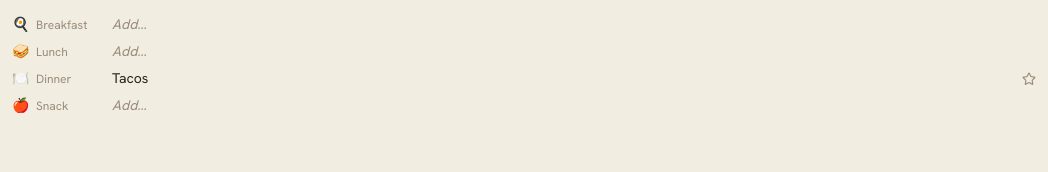
Scenario: MealDayEditor › cancels on Escape without saving
Click the button with aria-label "Edit Dinner for Mon 8/17" at (130, 78), box left=108, top=66, right=1018, bottom=91
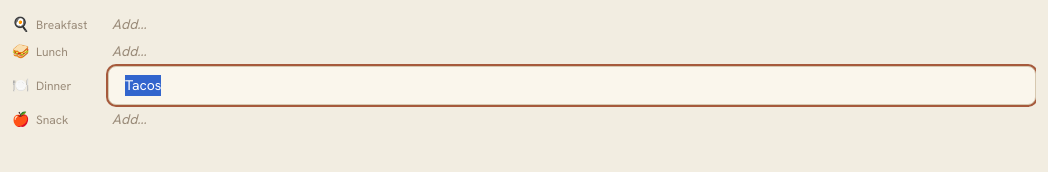
Type "x" into the field named "Dinner for Mon 8/17" at (572, 86), box left=108, top=66, right=1036, bottom=105
Then press Escape
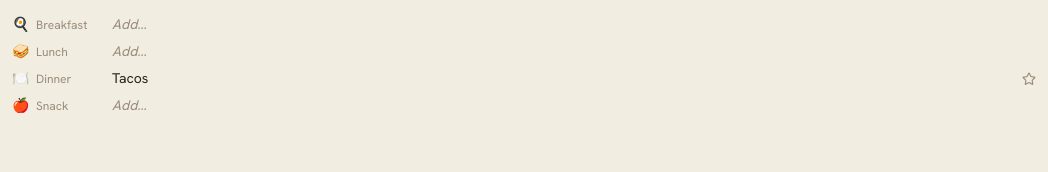
Now the button "Tacos" is shown, box left=108, top=66, right=1018, bottom=91
